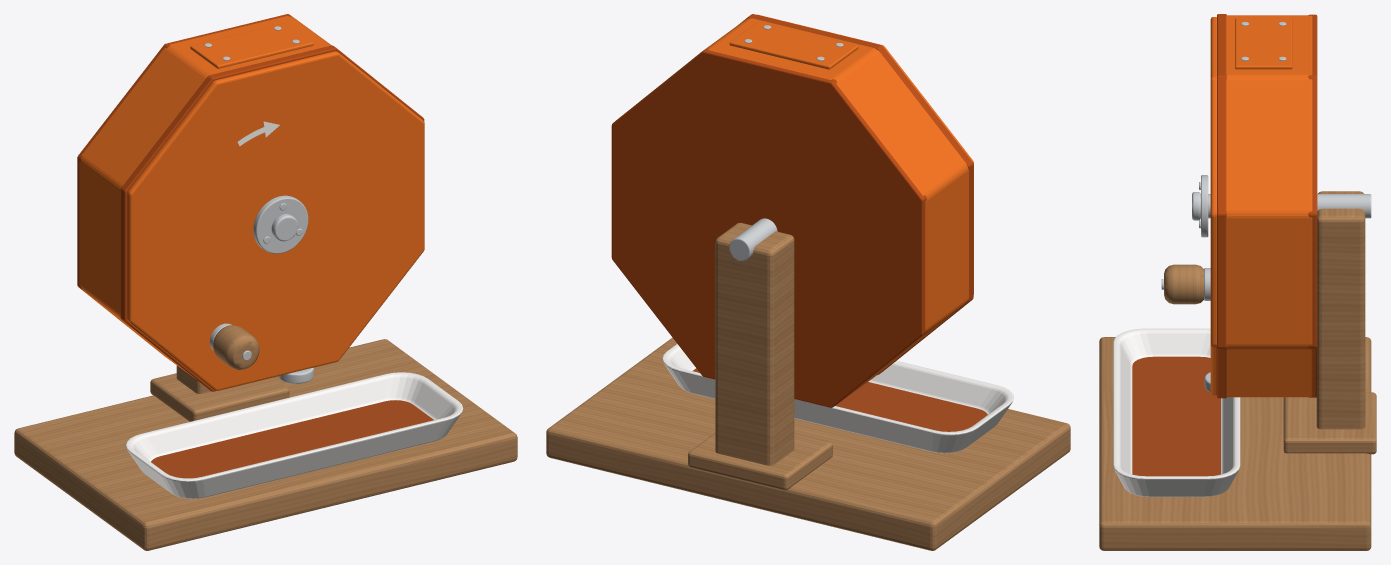
The model's file is garagara.glb.
3 renders of one model, left to right at view 1: azimuth 30°, elevation 25°; view 2: azimuth 150°, elevation 25°; view 3: azimuth 270°, elevation 25°, orthographic. The views are drawn at different scales.
Parts seen in each view (by area): view 1: Lacquered front face, Birch base, Shallow moulded catch tray, Shallow octagonal drum, Felt liner, Rear support foot, Front ply edge, Refill hatch, Front bearing flange, Birch turning knob, Rear ply edge; view 2: Rear ply edge, Birch base, Rear bearing support, Shallow octagonal drum, Shallow moulded catch tray, Felt liner, Rear support foot, Refill hatch, Front ply edge, Stationary axle; view 3: Shallow octagonal drum, Birch base, Rear bearing support, Felt liner, Shallow moulded catch tray, Rear support foot, Front ply edge, Refill hatch, Lacquered front face, Rear ply edge, Birch turning knob, Stationary axle (+1 smaller).
Part boxes in pixels (x1,y1,x2,y2): Lacquered front face: (127,51,424,390); Birch base: (14,339,517,550); Shallow moulded catch tray: (125,372,463,498); Shallow octagonal drum: (79,16,331,377); Felt liner: (151,400,433,478); Rear support foot: (150,373,289,421); Front ply edge: (120,45,424,391); Refill hatch: (190,23,313,68); Front bearing flange: (253,195,308,253); Birch turning knob: (213,325,259,369); Rear ply edge: (77,14,292,289); Rear ply edge: (611,48,926,407); Birch base: (546,337,1070,550); Rear bearing support: (715,222,794,465); Shallow octagonal drum: (692,18,968,404); Shallow moulded catch tray: (662,344,1013,453); Felt liner: (693,368,987,431); Rear support foot: (688,433,832,490); Refill hatch: (729,21,858,69); Front ply edge: (740,14,973,374); Stationary axle: (729,218,777,260); Shallow octagonal drum: (1226,15,1312,397); Birch base: (1099,337,1371,550); Rear bearing support: (1316,191,1365,429); Felt liner: (1132,356,1220,476); Shallow moulded catch tray: (1113,328,1240,496); Rear support foot: (1283,392,1376,454); Front ply edge: (1217,14,1226,398); Refill hatch: (1235,18,1292,69); Lacquered front face: (1210,17,1216,395); Rear ply edge: (1308,14,1317,397); Birch turning knob: (1164,264,1203,304); Stationary axle: (1200,194,1371,218).
Bounding box in the file's own units: 2.48 × 2.57 × 1.55.
8 materials, 1 textured.
